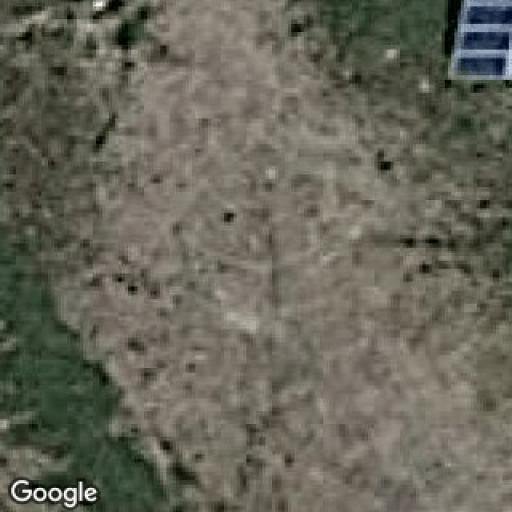solar-panel: (451, 0, 512, 82)
